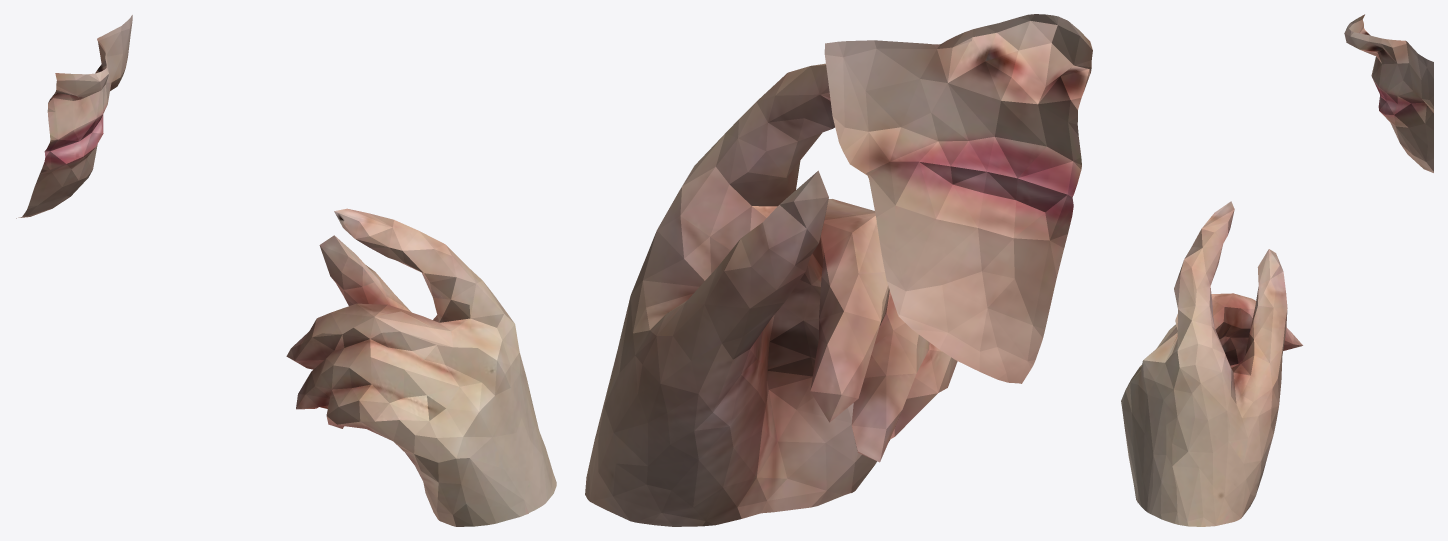
The picture shows the model from 3 angles, left to right: view 1: azimuth 30°, elevation 25°; view 2: azimuth 150°, elevation 25°; view 3: azimuth 270°, elevation 25°; orthographic projection. The views are drawn at different scales.
Visible parts, largest first — view 1: 091_W_Aya_100K_01; view 2: 091_W_Aya_100K_01; view 3: 091_W_Aya_100K_01.
Part boxes in pixels (left/top/right/bottom): 091_W_Aya_100K_01: left=16, top=15, right=556, bottom=526; 091_W_Aya_100K_01: left=585, top=14, right=1092, bottom=526; 091_W_Aya_100K_01: left=1121, top=14, right=1433, bottom=526.
Bounding box in the file's own units: 167 × 171 × 138.
1 material, 1 textured.
